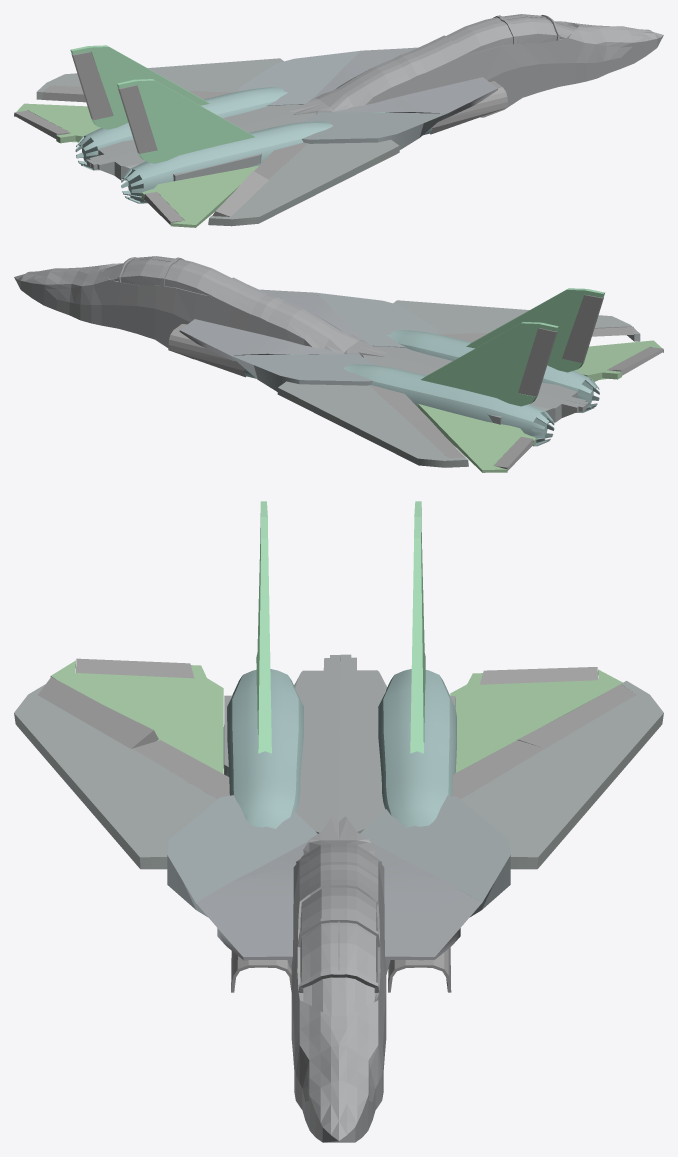
3 views of the same model, one above another, from view 1: azimuth 30°, elevation 25°; view 2: azimuth 150°, elevation 25°; view 3: azimuth 270°, elevation 25° (orthographic). The views are drawn at different scales.
Parts seen in each view (by area): view 1: Right_Cockpit, Top_Wing (×2), Front_Wing_Right, Flap_A (×5), Back_Wing (×2), Engine_A, Engine_B (×2), Shoulder_B_R, Shoulder_B, Front_Wing, Shoulder_A_R, Body_Right (+4 smaller); view 2: CockpitLeft, Top_Wing (×2), Engine_B (×2), Front_Wing, Back_Wing (×2), Flap_A (×5), Shoulder_B, Shoulder_B_R, Front_Wing_Right, Shoulder_A, Engine_A, Right_Cockpit (+4 smaller); view 3: Back_Wing (×2), Front_Wing, Front_Wing_Right, CockpitLeft, Right_Cockpit, Engine_B (×2), Engine_A, Shoulder_B_R, Shoulder_B, Flap_A (×4), Shoulder_A, Shoulder_A_R (+4 smaller).
Boxes of the visible parts, x1,y1,x2,y2 form: Right_Cockpit: (293,17,663,117); Top_Wing (×2): (70,45,254,163); Front_Wing_Right: (208,139,399,226); Flap_A (×5): (14,52,307,224); Back_Wing (×2): (14,103,258,227); Engine_A: (121,112,432,203); Engine_B (×2): (75,81,507,170); Shoulder_B_R: (302,112,447,149); Shoulder_B: (239,50,361,105); Front_Wing: (36,58,283,99); Shoulder_A_R: (333,77,497,121); Body_Right: (90,112,316,181); CockpitLeft: (14,259,384,359); Top_Wing (×2): (421,288,604,406); Engine_B (×2): (168,324,554,446); Front_Wing: (277,381,468,467); Back_Wing (×2): (418,340,663,472); Flap_A (×5): (369,294,663,470); Shoulder_B: (230,354,376,391); Shoulder_B_R: (316,292,438,347); Front_Wing_Right: (393,300,640,341); Shoulder_A: (179,319,344,361); Engine_A: (387,330,599,412); Right_Cockpit: (26,256,387,353); Back_Wing (×2): (50,660,622,773); Front_Wing: (460,680,663,869); Front_Wing_Right: (14,684,217,869); CockpitLeft: (339,816,386,1142); Right_Cockpit: (291,816,338,1142); Engine_B (×2): (378,669,456,992); Engine_A: (223,669,303,828); Shoulder_B_R: (167,795,317,916); Shoulder_B: (360,795,510,916); Flap_A (×4): (76,658,597,799); Shoulder_A: (370,842,481,974); Shoulder_A_R: (196,842,307,969).
Size of the model in its own units: 31.13 by 6.79 by 18.32.
